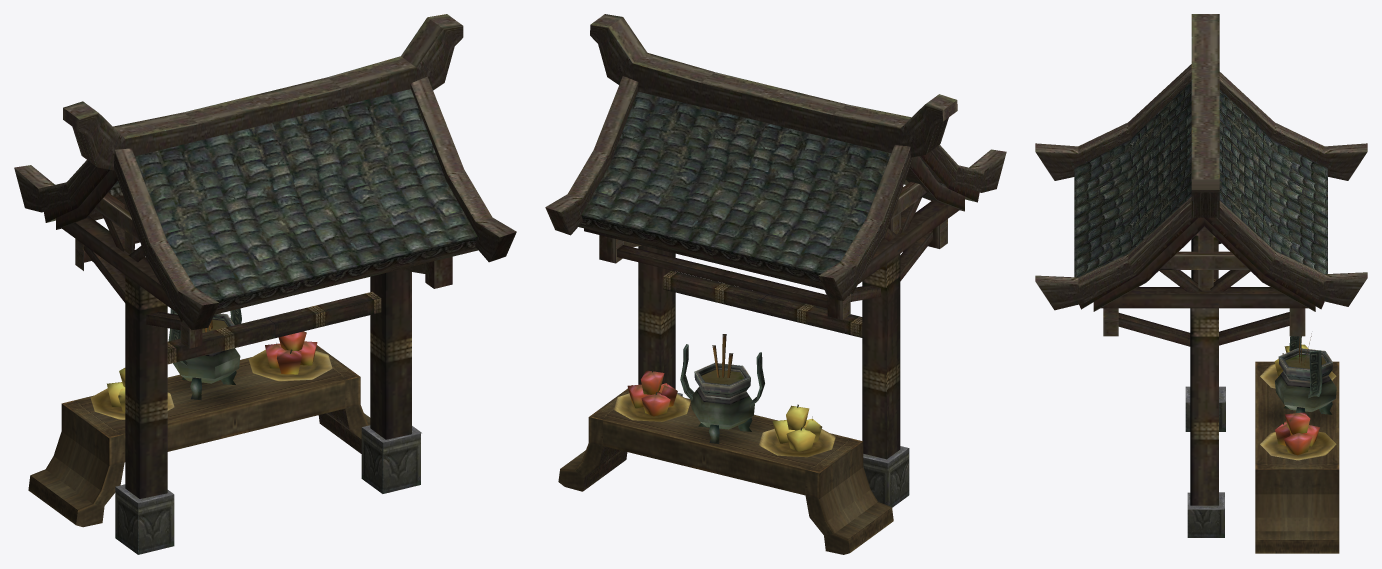
File: SC102Jjianzhu_01.FBX
The picture shows the model from 3 angles, left to right: view 1: azimuth 30°, elevation 25°; view 2: azimuth 150°, elevation 25°; view 3: azimuth 270°, elevation 25°; orthographic projection. The views are drawn at different scales.
Parts seen in each view (by area): view 1: SC102Jjianzhu_01 (×2); view 2: SC102Jjianzhu_01 (×2); view 3: SC102Jjianzhu_01 (×2).
Part boxes in pixels (x1=…): SC102Jjianzhu_01 (×2): x1=14, y1=14, x2=516, y2=554; SC102Jjianzhu_01 (×2): x1=545, y1=14, x2=1006, y2=554; SC102Jjianzhu_01 (×2): x1=1035, y1=14, x2=1367, y2=553.
Size of the model in its own units: 4.04 by 4.5 by 3.43.
